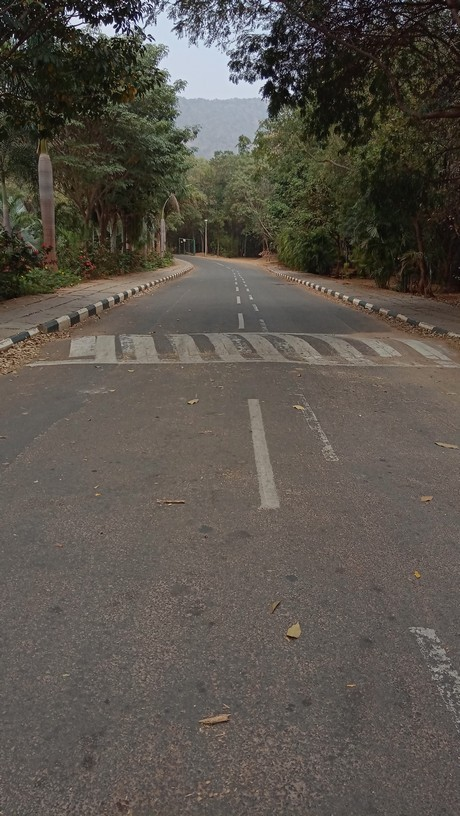bump: (12, 332, 459, 363)
